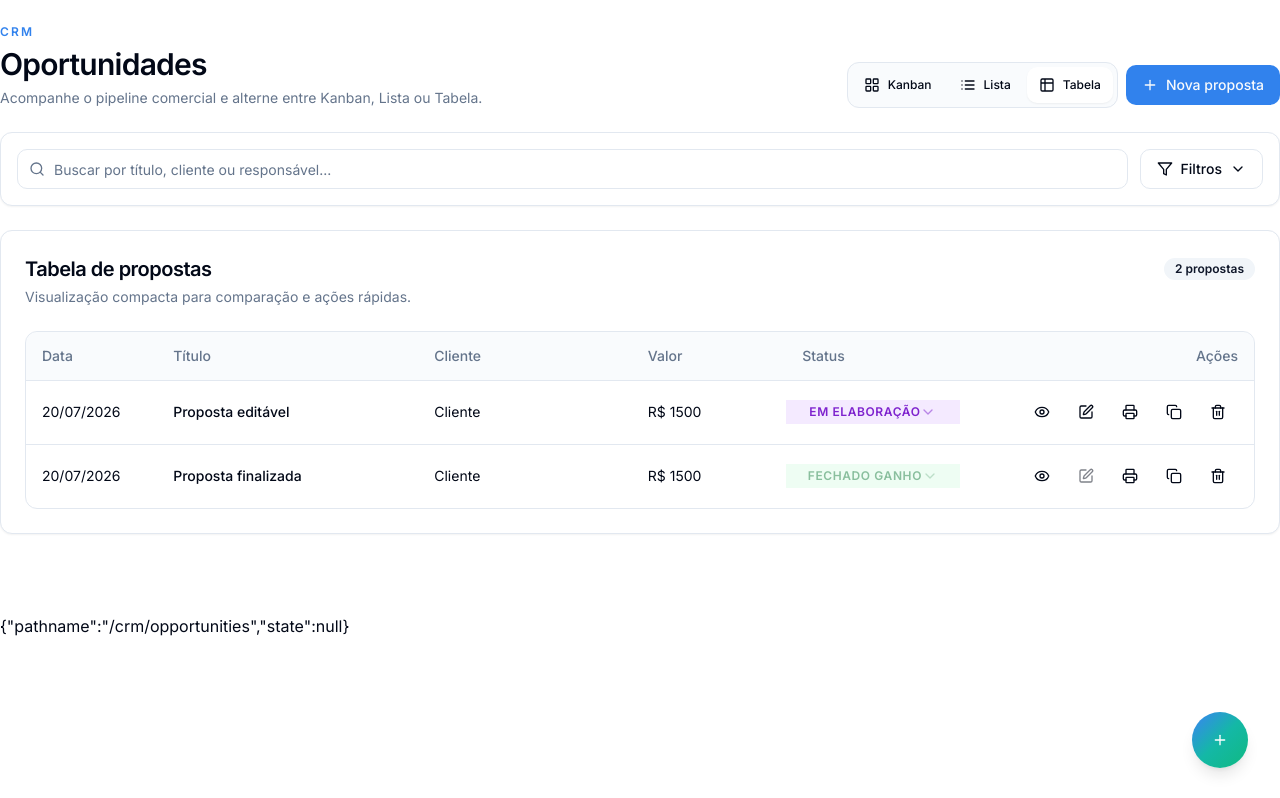
it: Opportunities proposal actions › keeps finalized detail fields read-only and duplicates into an editable copy
Later steps or results of the test are not shown.
Click the button named "Visualizar Proposta finalizada". click: (1042, 476)
box: x1=1022 y1=458 x2=1062 y2=494
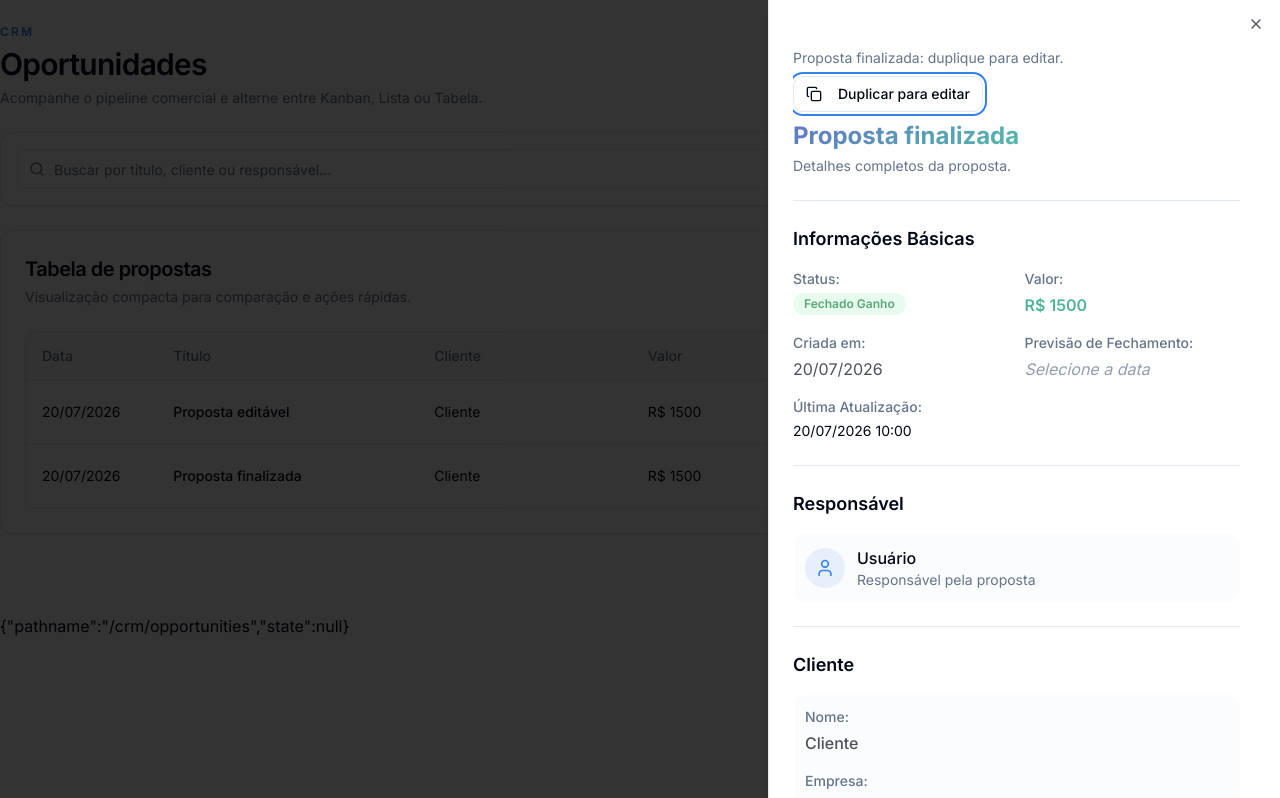
Expected: the message reads "Proposta finalizada: duplique para editar.", x1=793 y1=49 x2=1064 y2=66
